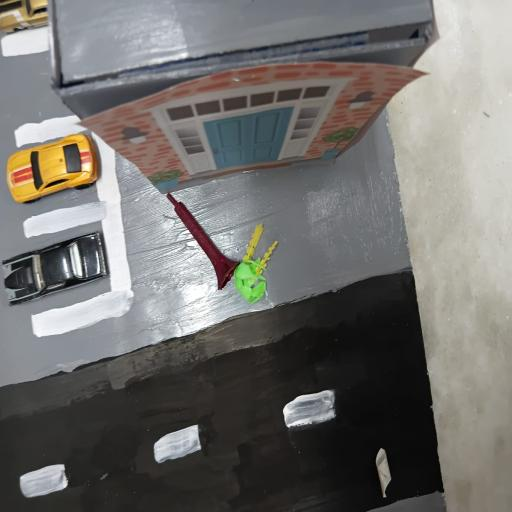fallen trees: (160, 189, 300, 324)
